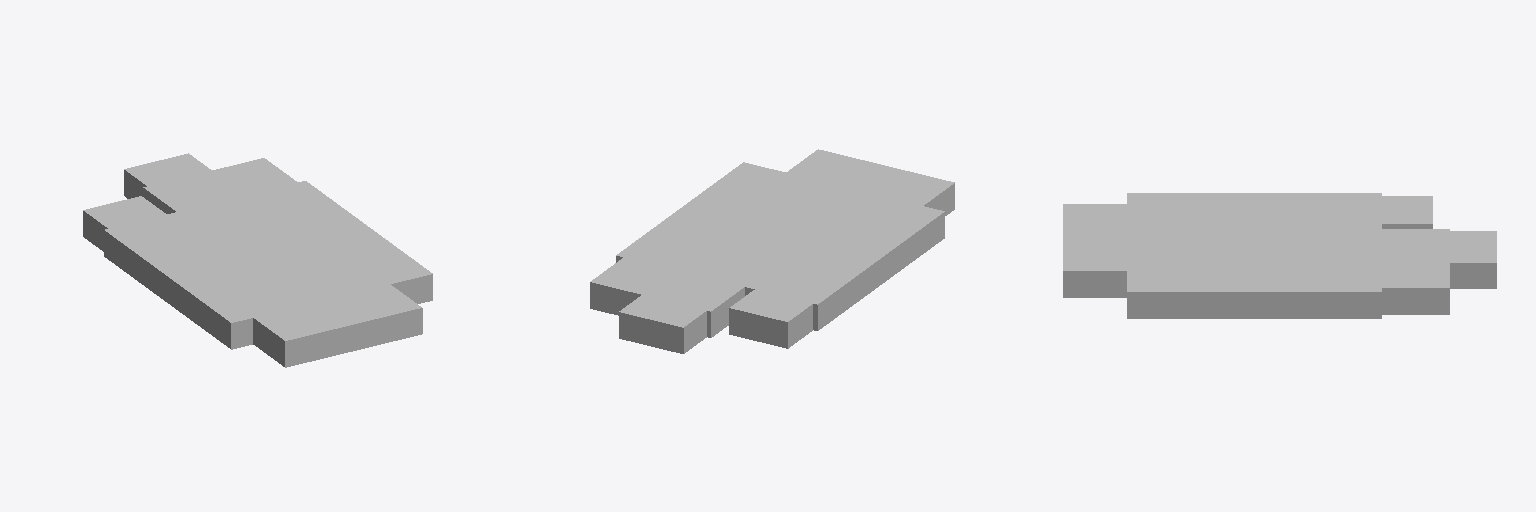
The model's file is CloudV5.obj.
The picture shows the model from 3 angles: view 1: azimuth 30°, elevation 25°; view 2: azimuth 150°, elevation 25°; view 3: azimuth 270°, elevation 25°; orthographic projection.
Visible parts, largest first — view 1: pCube5; view 2: pCube5; view 3: pCube5.
Boxes of the visible parts, <box> form: pCube5: <box>83,153,432,367</box>; pCube5: <box>590,149,954,353</box>; pCube5: <box>1063,193,1496,318</box>.
Bounding box in the file's own units: 3.96 × 0.5 × 7.37.